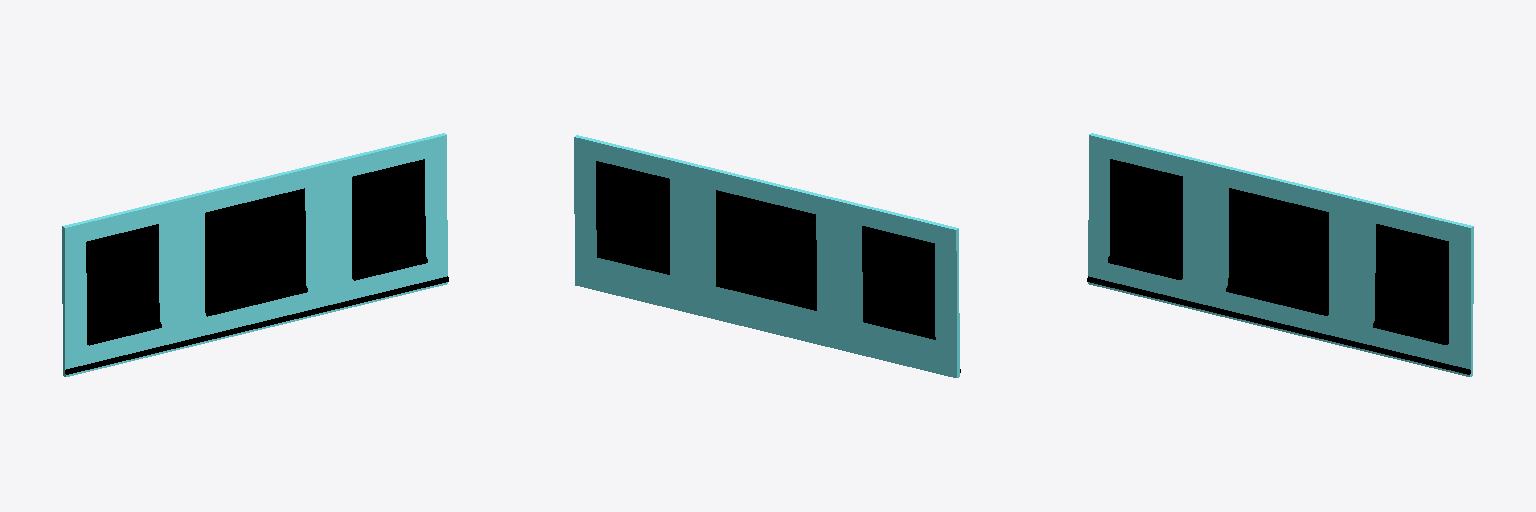
Rendered from Wall_test.obj.
The picture shows the model from 3 angles: view 1: azimuth 30°, elevation 25°; view 2: azimuth 150°, elevation 25°; view 3: azimuth 330°, elevation 25°; orthographic projection.
Parts seen in each view (by area): view 1: polySurface3; view 2: polySurface3; view 3: polySurface3.
Boxes of the visible parts, <box> form: polySurface3: <box>62,133,448,376</box>; polySurface3: <box>574,135,960,377</box>; polySurface3: <box>1087,133,1473,376</box>.
Size of the model in its own units: 717 by 267 by 17.55.